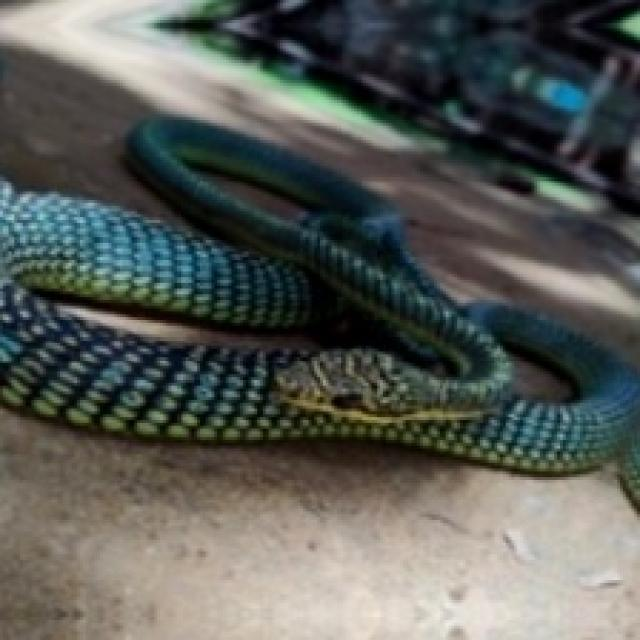paradise tree snake: (0, 117, 637, 474)
